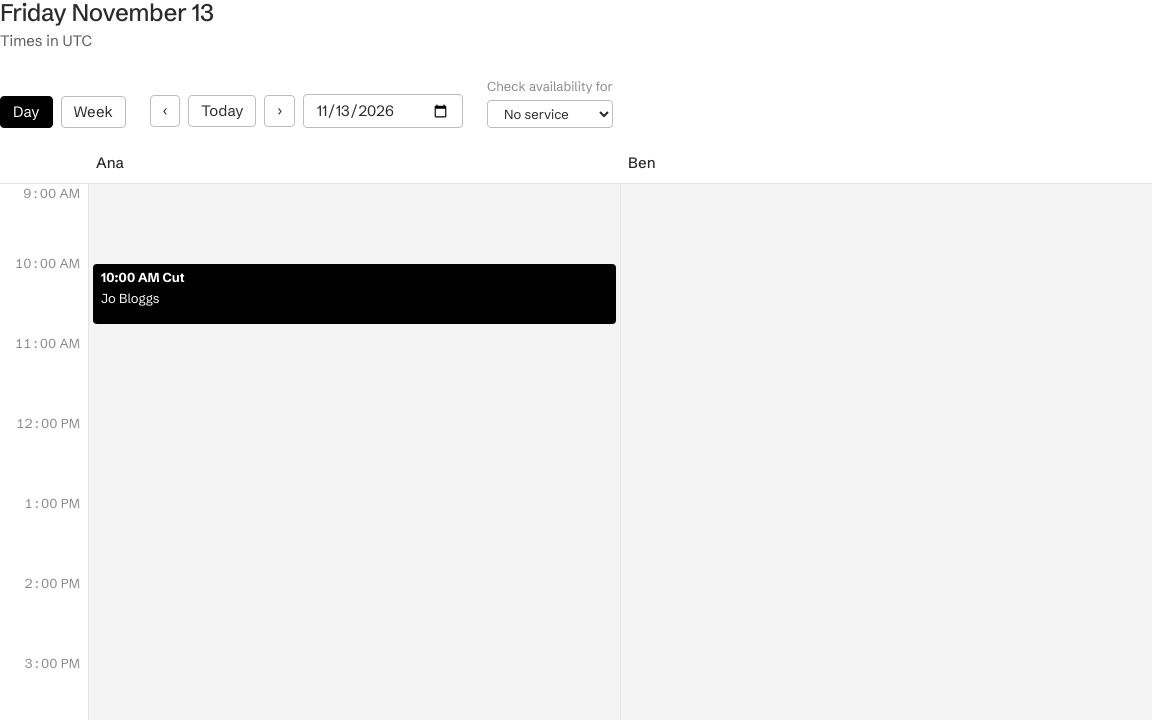
Calendar › lists the week and opens a day from it
The image size is (1152, 720).
Click the button "Week": {"x": 93, "y": 112} top-left (60, 96), bottom-right (126, 128)
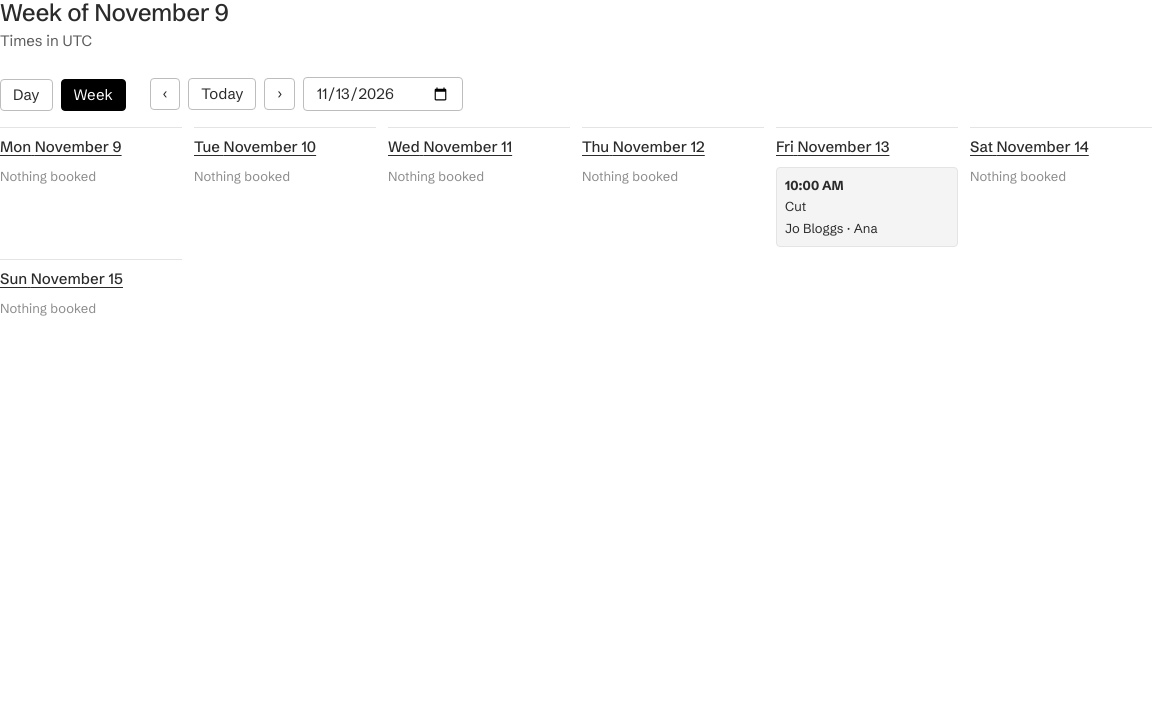
Expected: the text "Jo Bloggs · Ana" is shown, top-left (785, 220), bottom-right (878, 236)
Expected: the text "Nothing booked" is shown 6 times, top-left (0, 168), bottom-right (96, 184); top-left (194, 168), bottom-right (290, 184); top-left (388, 168), bottom-right (484, 184); top-left (582, 168), bottom-right (678, 184); top-left (970, 168), bottom-right (1066, 184); top-left (0, 300), bottom-right (96, 316)
